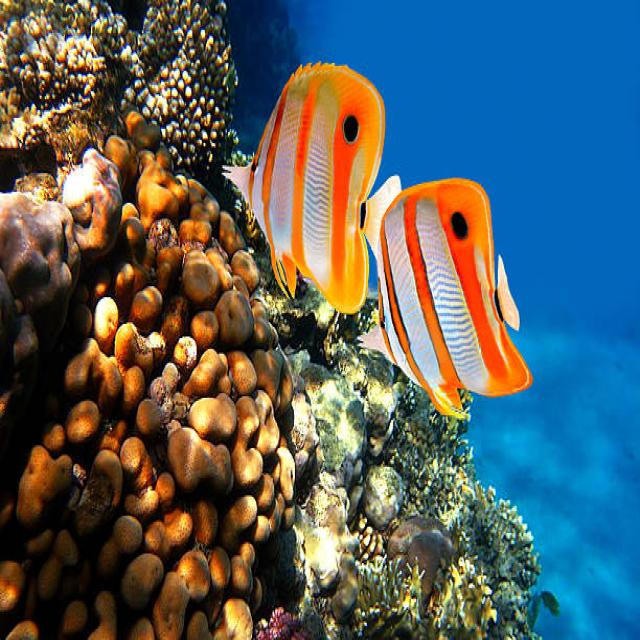ButterflyFish: (218, 52, 400, 324), (358, 166, 540, 436)
